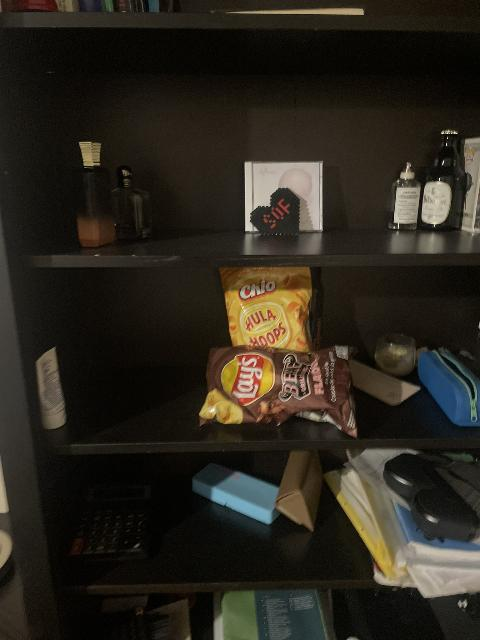Chio Hula Hoops Cheese 70g: (218, 269, 316, 349)
Lays Beef Grilled Ribs 125g: (202, 345, 357, 432)
